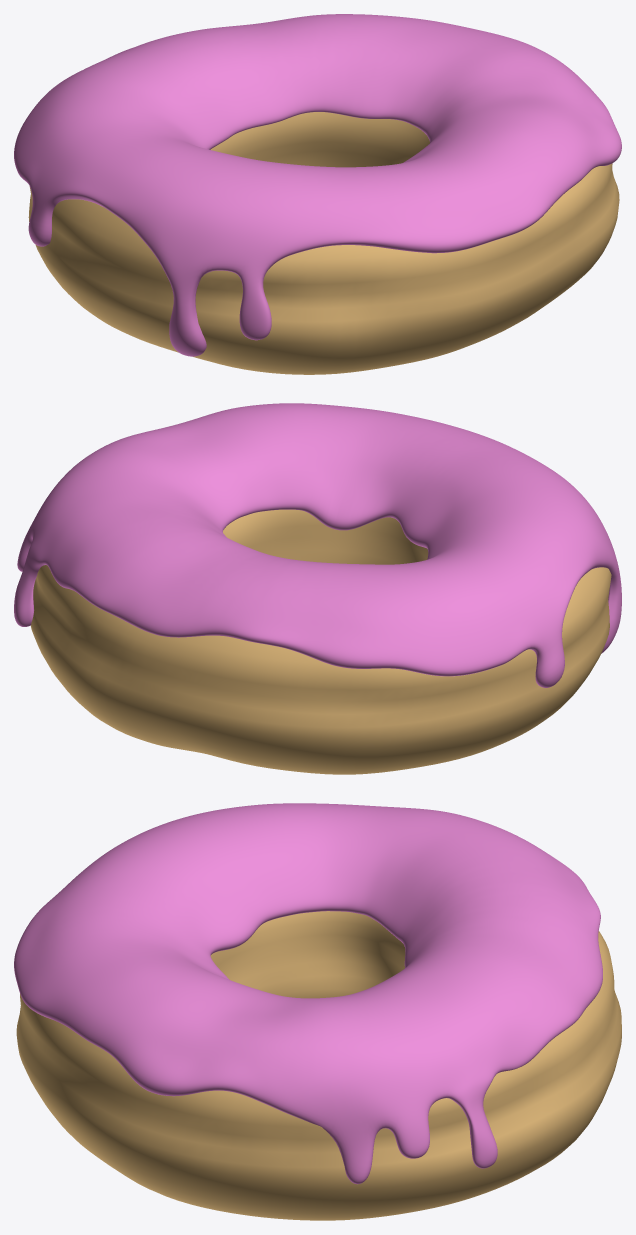
File: donut.glb
3 renders of one model, top to bottom at view 1: azimuth 30°, elevation 25°; view 2: azimuth 150°, elevation 25°; view 3: azimuth 270°, elevation 25°, orthographic. The views are drawn at different scales.
Parts seen in each view (by area): view 1: Icing, Donut; view 2: Icing, Donut; view 3: Icing, Donut.
Boxes of the visible parts, x1=… form: Icing: x1=14, y1=14, x2=621, y2=356; Donut: x1=28, y1=112, x2=619, y2=374; Icing: x1=14, y1=403, x2=621, y2=687; Donut: x1=30, y1=509, x2=611, y2=774; Icing: x1=14, y1=803, x2=602, y2=1184; Donut: x1=16, y1=911, x2=621, y2=1220.
Size of what is drawn, in the model's own units: 0.1508 by 0.0528 by 0.1371.
